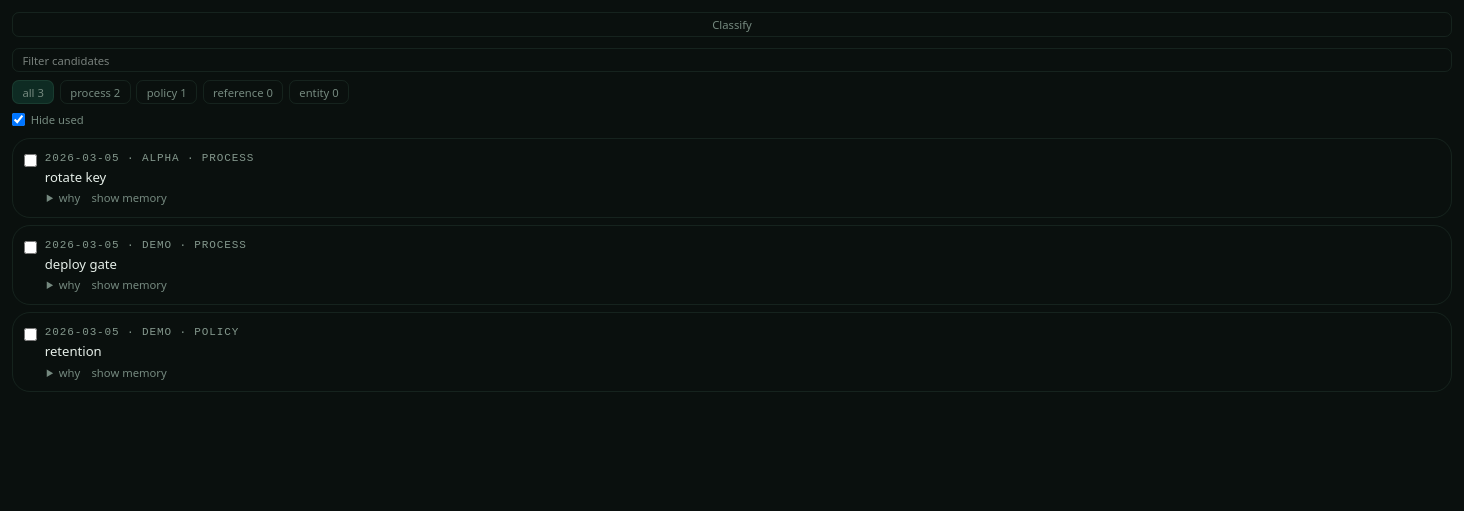
Test case: WikiCandidates › hide used is on by default; toggling shows the page it is used in
What coordinates should you click on to do the following:
click the checkbox labelled "Hide used"
I would click on:
 (18, 119)
Its box is [12,113,25,126].
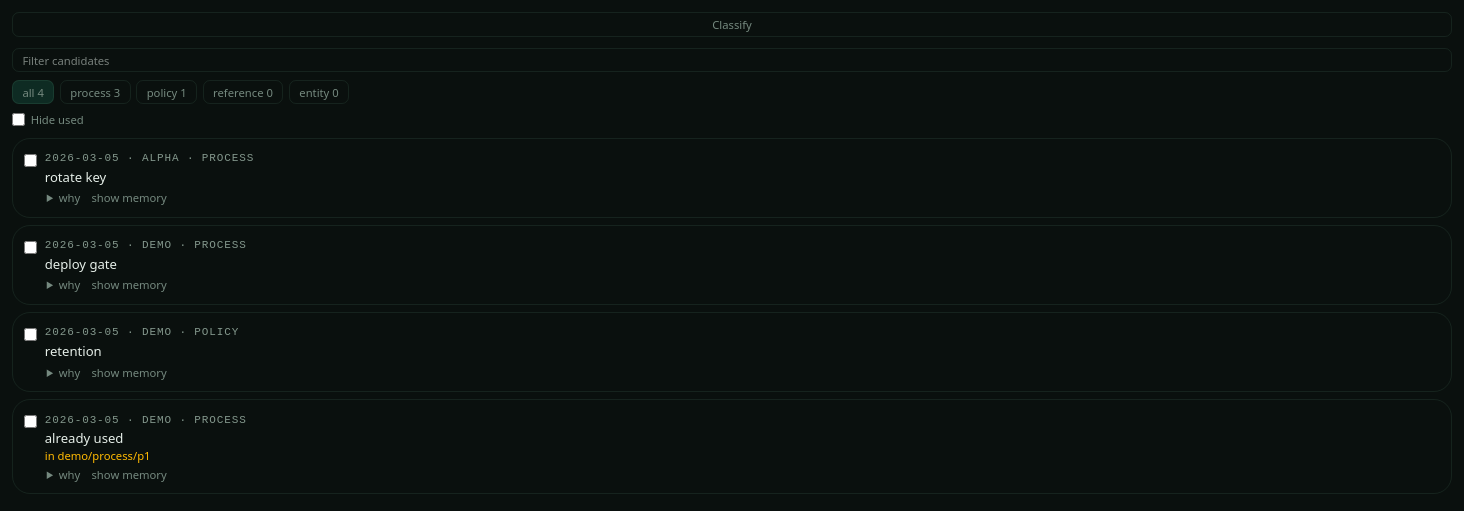
Check: the checkbox named "Select u" is shown, box [24,415,37,428]
Check: the text "in demo/process/p1" is shown, box [45,448,151,463]
